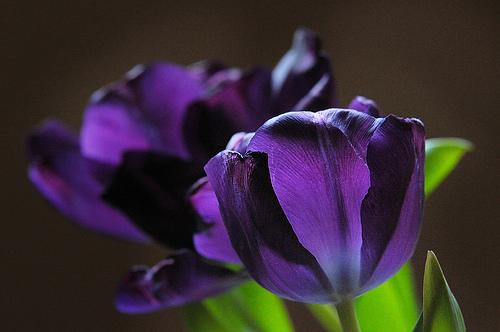tulip: (206, 95, 427, 307)
